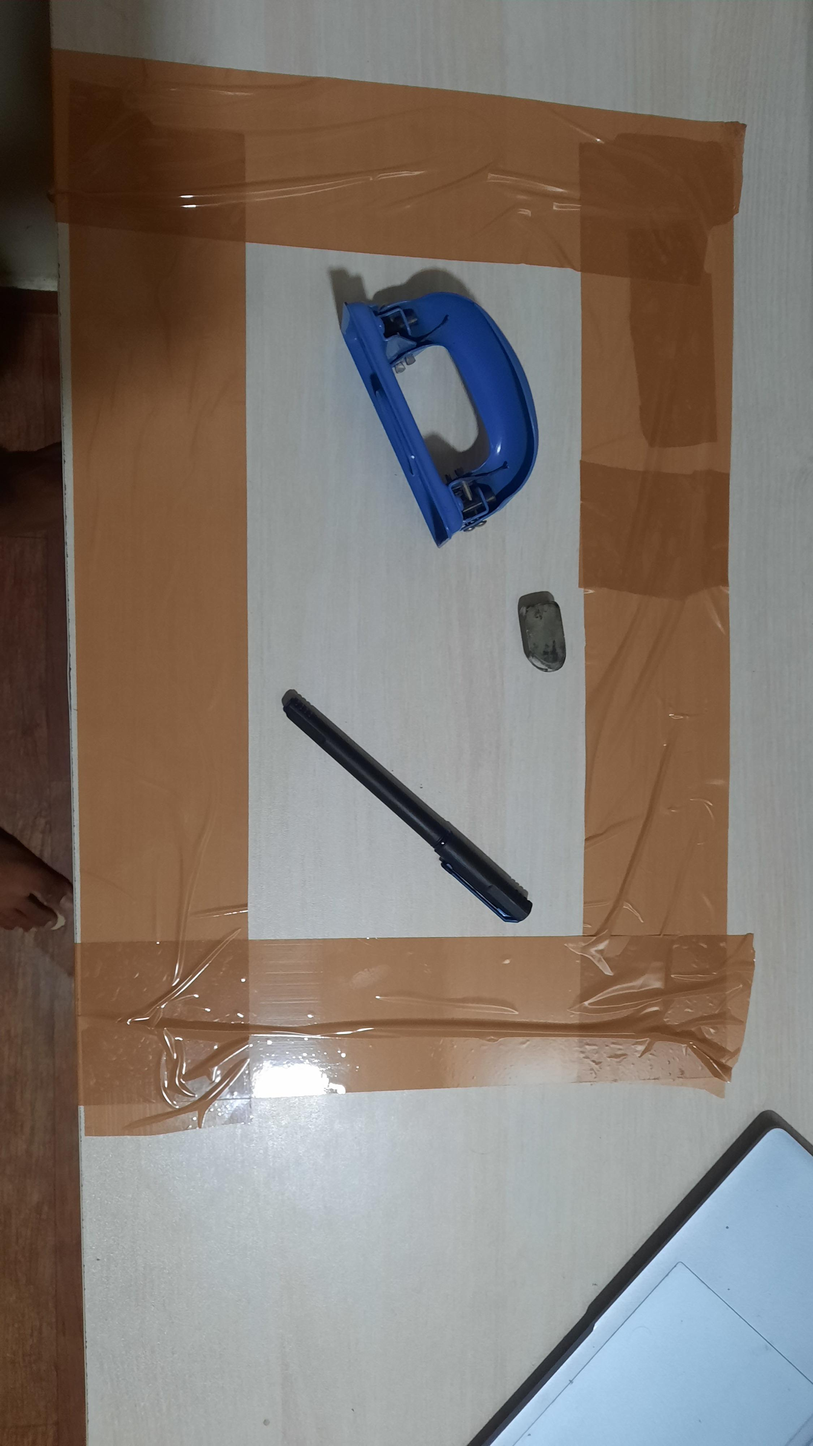Eraser: (517, 590, 567, 673)
Pen: (281, 688, 533, 924)
Punch: (339, 290, 540, 549)
